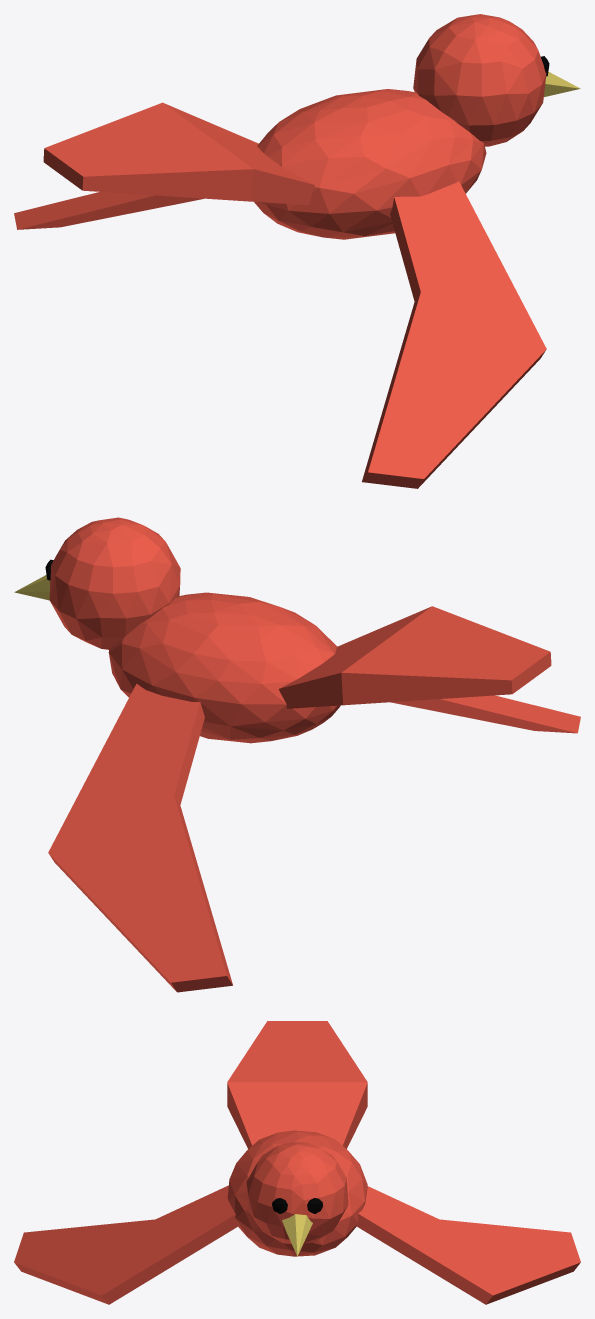
Rendered from Bird_Body_V1.fbx.
The picture shows the model from 3 angles, top to bottom: view 1: azimuth 30°, elevation 25°; view 2: azimuth 150°, elevation 25°; view 3: azimuth 270°, elevation 25°; orthographic projection. The views are drawn at different scales.
Parts seen in each view (by area): view 1: Bird_Body, Wing_R, Wing_L; view 2: Bird_Body, Wing_L, Wing_R; view 3: Bird_Body, Wing_L, Wing_R.
Boxes of the visible parts, <box> form: Bird_Body: <box>43,14,580,239</box>; Wing_R: <box>362,181,546,488</box>; Wing_L: <box>14,192,203,229</box>; Bird_Body: <box>14,517,551,743</box>; Wing_L: <box>48,683,232,992</box>; Wing_R: <box>391,695,580,733</box>; Bird_Body: <box>227,1021,367,1256</box>; Wing_L: <box>356,1186,580,1304</box>; Wing_R: <box>14,1185,238,1304</box>.
Bounding box in the file's own units: 658 × 338 × 806.
